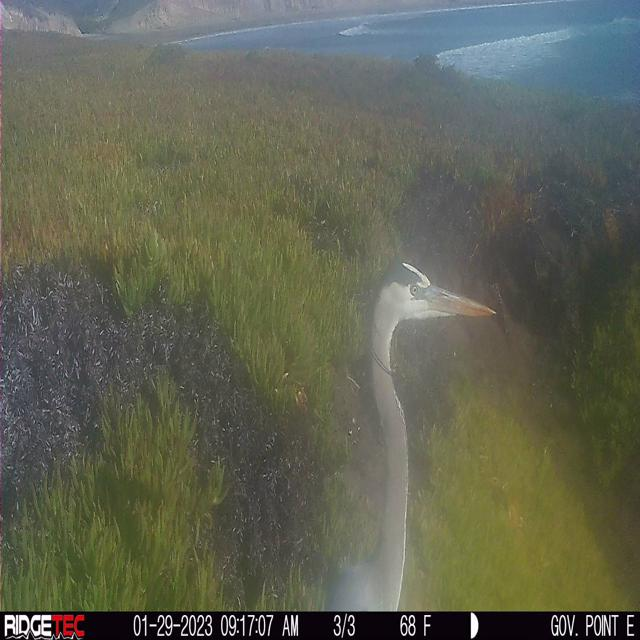bird: (323, 260, 497, 611)
